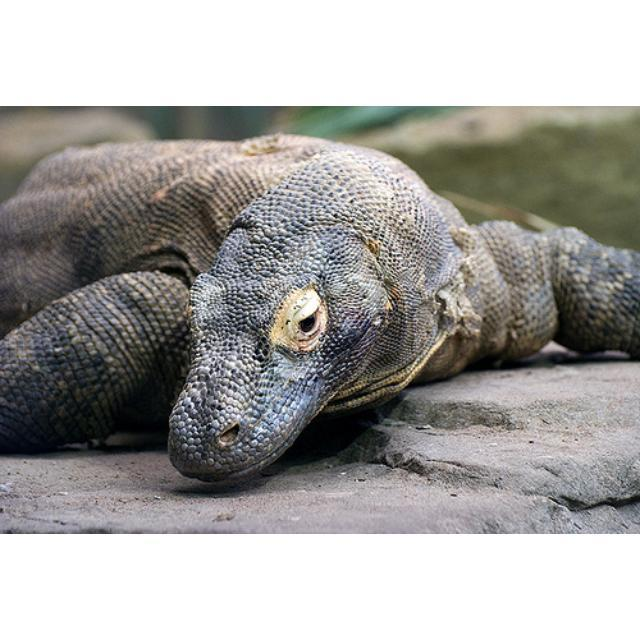KomodoDragon: (1, 132, 638, 489)
